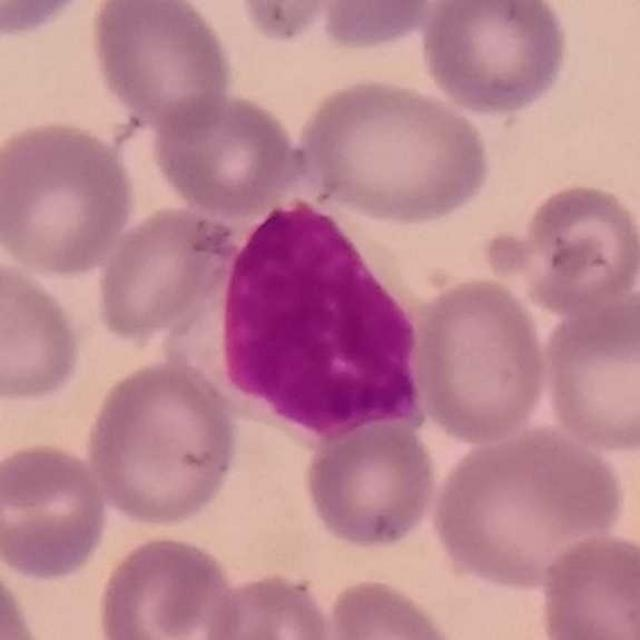Lymphocyte: (221, 198, 434, 448)
RBC: (426, 422, 628, 594), (290, 71, 497, 228), (81, 355, 243, 531), (406, 273, 552, 447), (0, 116, 139, 279), (486, 177, 640, 317), (90, 202, 236, 348), (86, 0, 238, 137), (147, 89, 305, 218), (299, 414, 442, 554), (416, 0, 572, 119), (536, 288, 640, 457), (90, 530, 242, 640), (0, 437, 111, 583), (0, 252, 87, 408), (232, 0, 444, 56), (534, 528, 639, 640), (199, 567, 338, 640), (322, 573, 465, 640), (0, 0, 97, 43), (0, 552, 46, 640)
